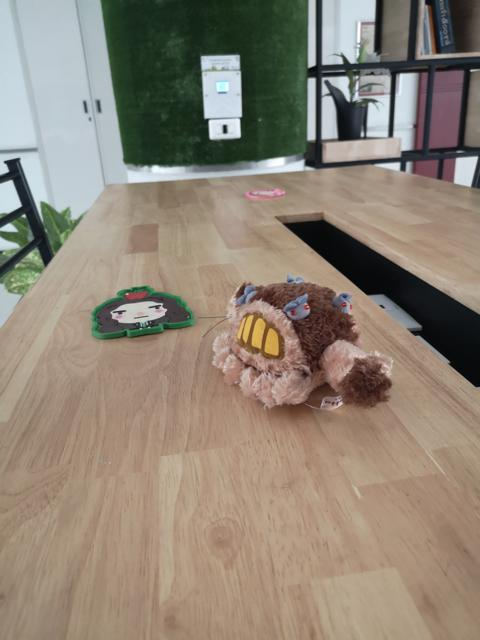nekobus: (210, 270, 401, 417)
